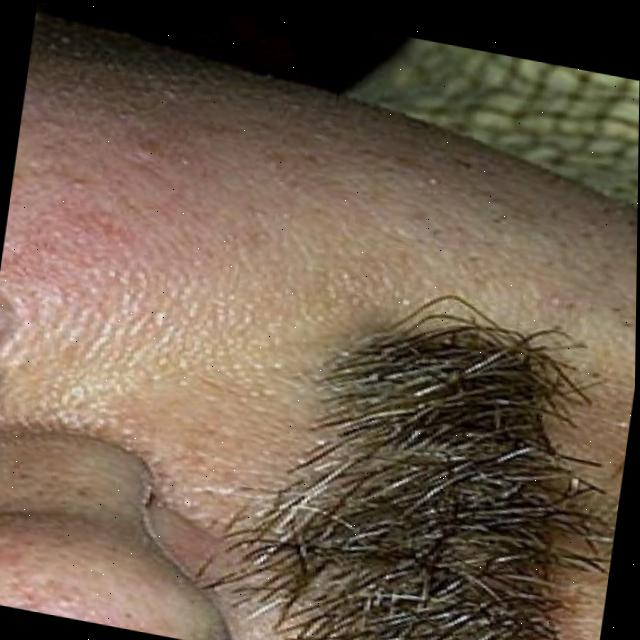Rosacea: (8, 201, 139, 297)
